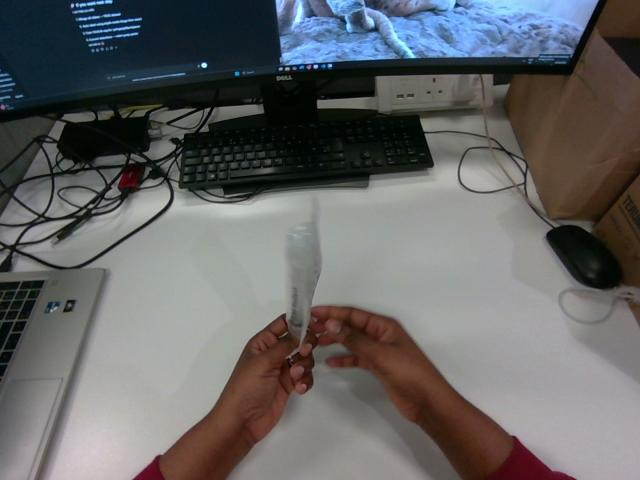syringe: (286, 202, 321, 354)
